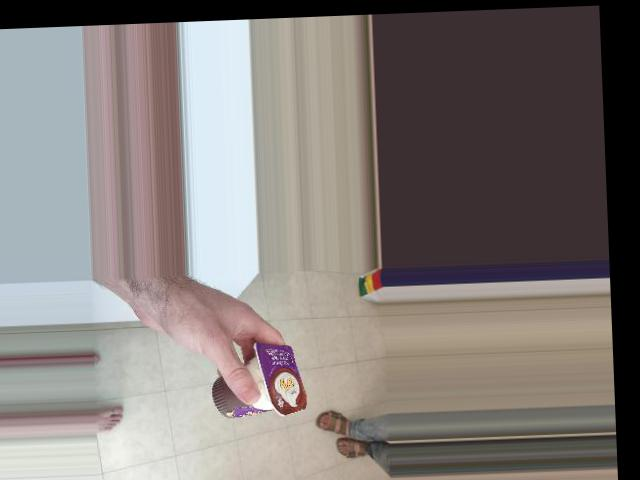milky: (198, 340, 316, 415)
